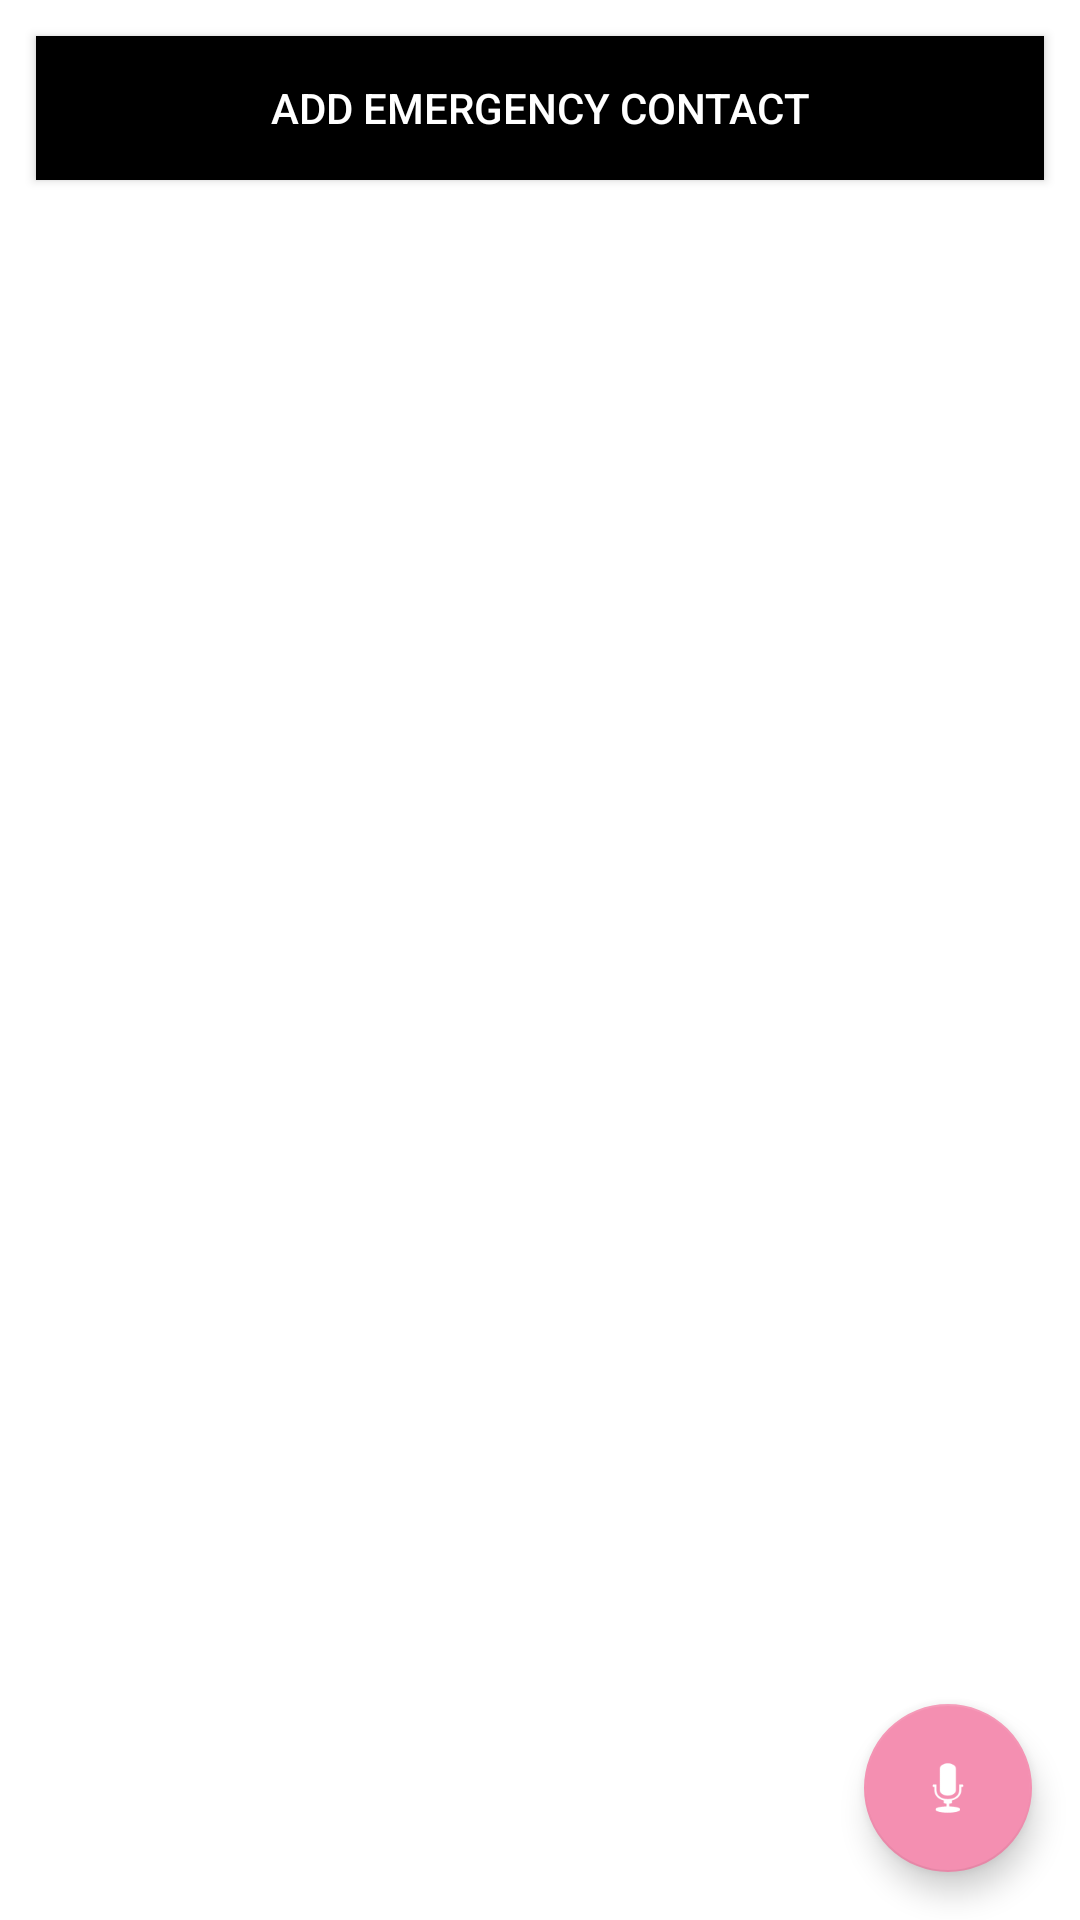

Named icons in this screenshot (1080*1920) and their bounding boxes, (x1, y1, x2, y2):
mic: (864, 1704, 1032, 1872)
